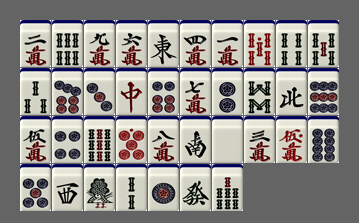0m: (276, 116, 307, 163)
0p: (116, 116, 147, 163)
0s: (244, 20, 275, 67)
1m: (212, 20, 243, 67)
1p: (148, 164, 179, 211)
1s: (84, 164, 115, 211)
1z: (148, 20, 179, 67)
2m: (20, 20, 51, 67)
2p: (212, 68, 243, 115)
2s: (116, 164, 147, 211)
2z: (180, 116, 211, 163)
3m: (244, 116, 275, 163)
3p: (84, 68, 115, 115)
3s: (20, 68, 51, 115)
3z: (52, 164, 83, 211)
4m: (180, 20, 211, 67)
4p: (52, 116, 83, 163)
4s: (276, 20, 307, 67)
4z: (276, 68, 307, 115)
5m: (20, 116, 51, 163)
5p: (20, 164, 51, 211)
5s: (308, 20, 339, 67)
5z: (212, 116, 243, 163)
6m: (116, 20, 147, 67)
6p: (148, 68, 179, 115)
6s: (52, 20, 83, 67)
6z: (180, 164, 211, 211)
7m: (180, 68, 211, 115)
7p: (52, 68, 83, 115)
7s: (212, 164, 243, 211)
7z: (116, 68, 147, 115)
8m: (148, 116, 179, 163)
8p: (308, 116, 339, 163)
8s: (244, 68, 275, 115)
9m: (84, 20, 115, 67)
9p: (308, 68, 339, 115)
9s: (84, 116, 115, 163)
